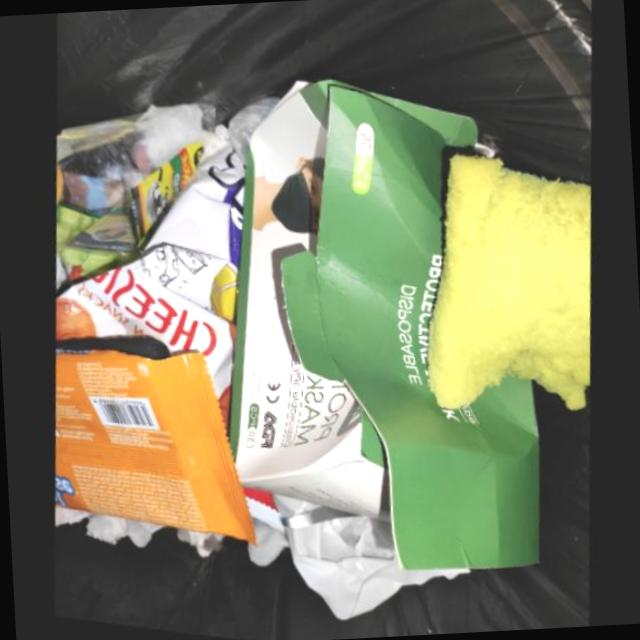bao_bi_thuc_pham: (50, 133, 242, 410), (47, 344, 249, 552), (51, 200, 144, 306)
carton: (227, 84, 533, 577)
giay: (239, 499, 461, 625), (47, 514, 154, 559)
goi_nhua_nho: (127, 148, 201, 257)
